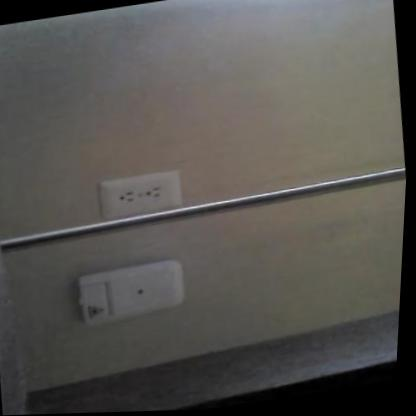OUTLET: (98, 168, 186, 218)
